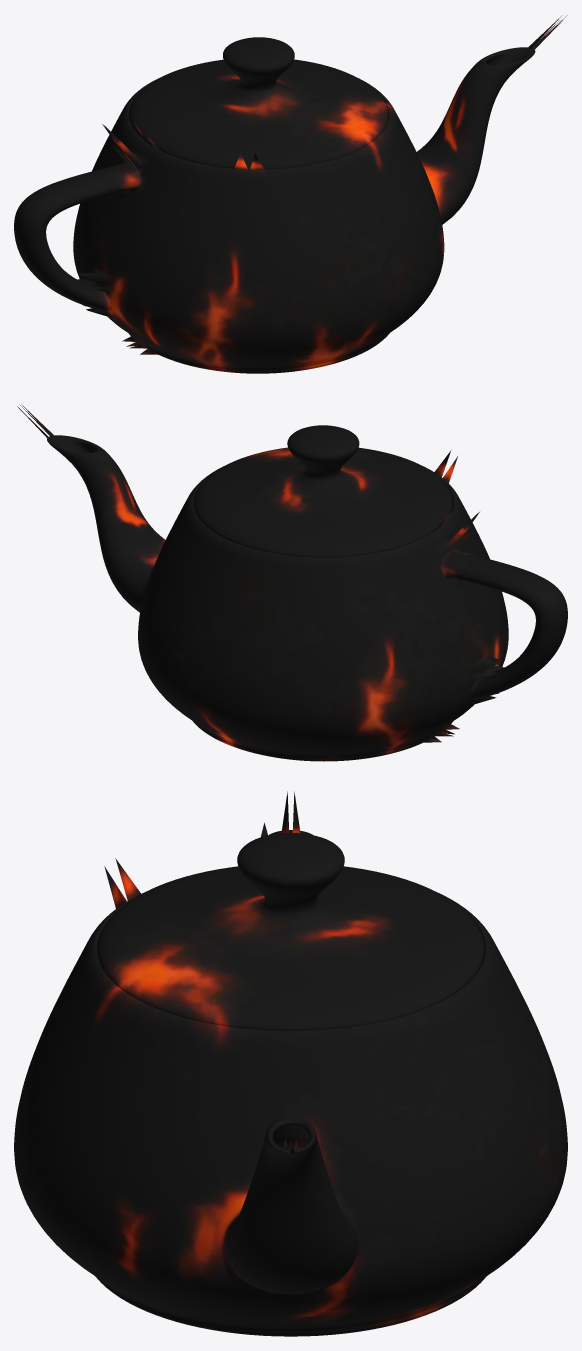
The model's file is frame_0004.glb.
The picture shows the model from 3 angles, top to bottom: view 1: azimuth 30°, elevation 25°; view 2: azimuth 150°, elevation 25°; view 3: azimuth 270°, elevation 25°; orthographic projection. The views are drawn at different scales.
Parts seen in each view (by area): view 1: world; view 2: world; view 3: world.
Part boxes in pixels (x1,y1,x2,y2): world: (14, 15, 567, 373); world: (17, 405, 567, 761); world: (14, 791, 567, 1336).
Bounding box in the file's own units: 1 × 0.4811 × 0.5823.
Materials: 1 (1 with a texture image).
